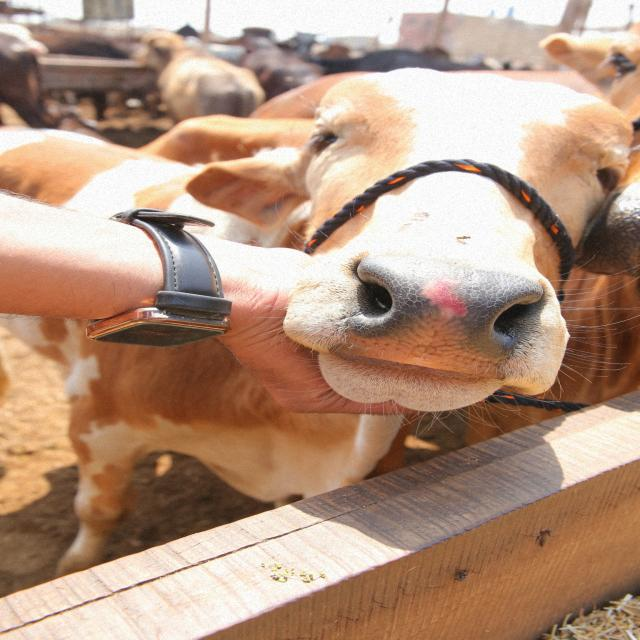muzzles: (318, 248, 558, 380)
